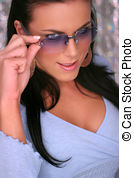face: (8, 1, 98, 91)
